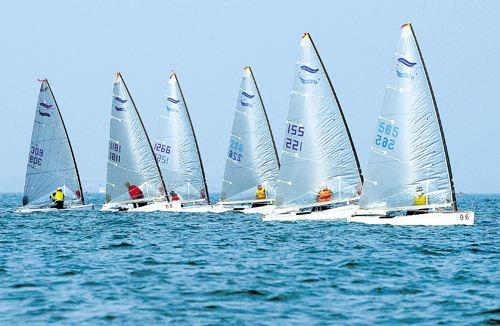fanchuan: (352, 22, 479, 225), (266, 30, 369, 218), (99, 72, 181, 213), (14, 73, 89, 214), (219, 64, 283, 212), (153, 70, 217, 212)
